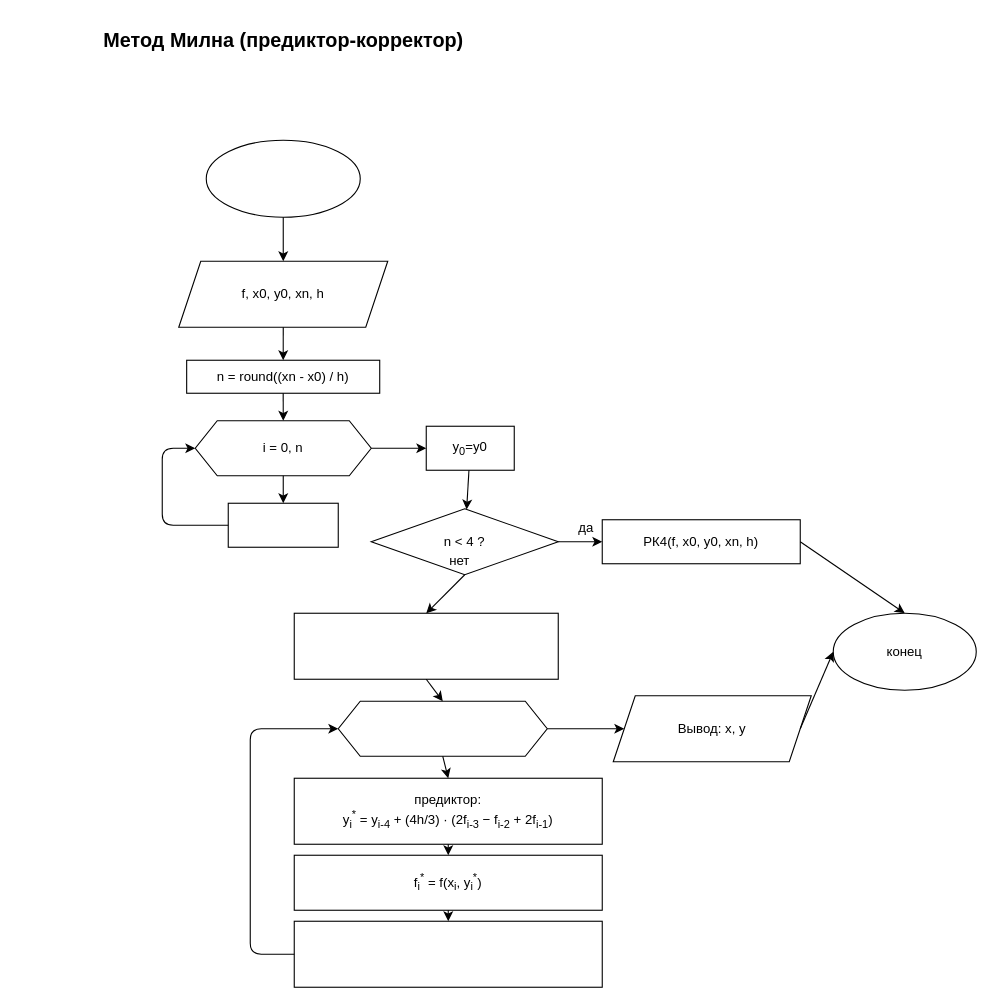
Some shapes in this 996 by 1007 pixel diagram are drawn without their labels. Each missing label, with the centre of its shape:
"i = 4, n" belongs at (x=442, y=728).
"x i = x0 + i * h y i =0" belongs at (x=282, y=524).
"корректор: y i = y i-2 + (h/3) · (f i-2 + 4f i-1 + f i * )" belongs at (x=447, y=953).
"начало" belongs at (x=282, y=178).
"разгон: РК4 на [x0, x0 + 3h] y 1 , y 2 , y 3 = значения РК4" belongs at (x=425, y=645).
